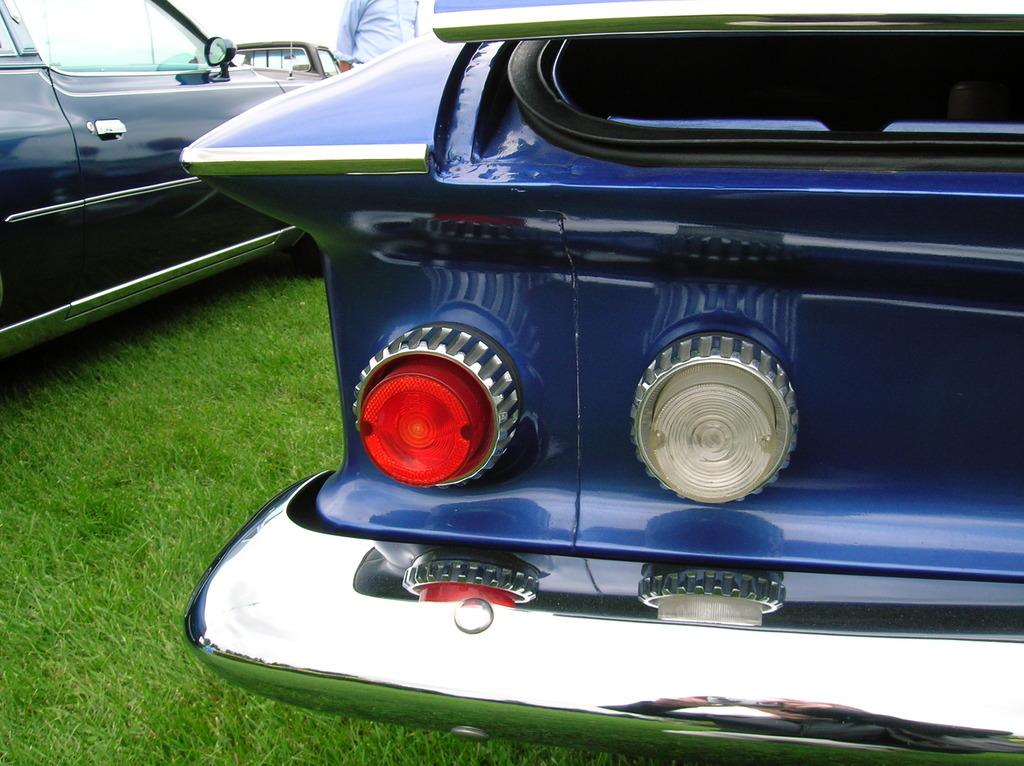Car: (112, 0, 1023, 765), (0, 0, 347, 396), (190, 34, 363, 81)
